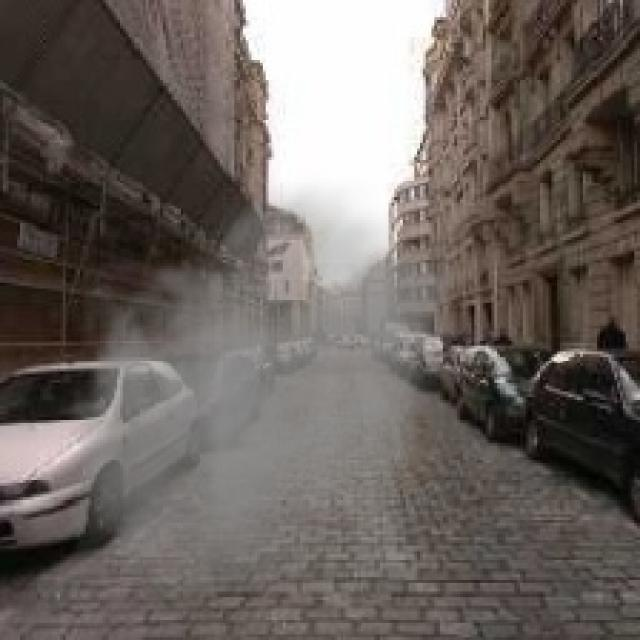smoke: (69, 168, 452, 592)
